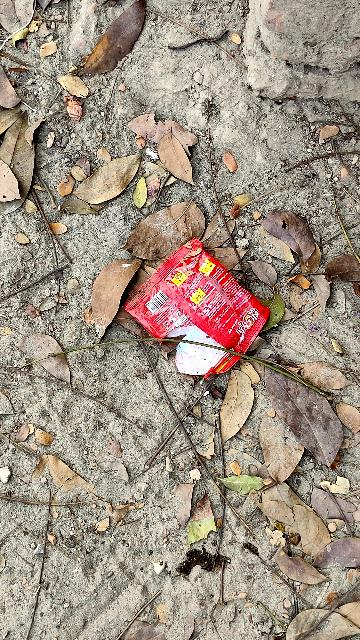packet: (135, 235, 264, 380)
